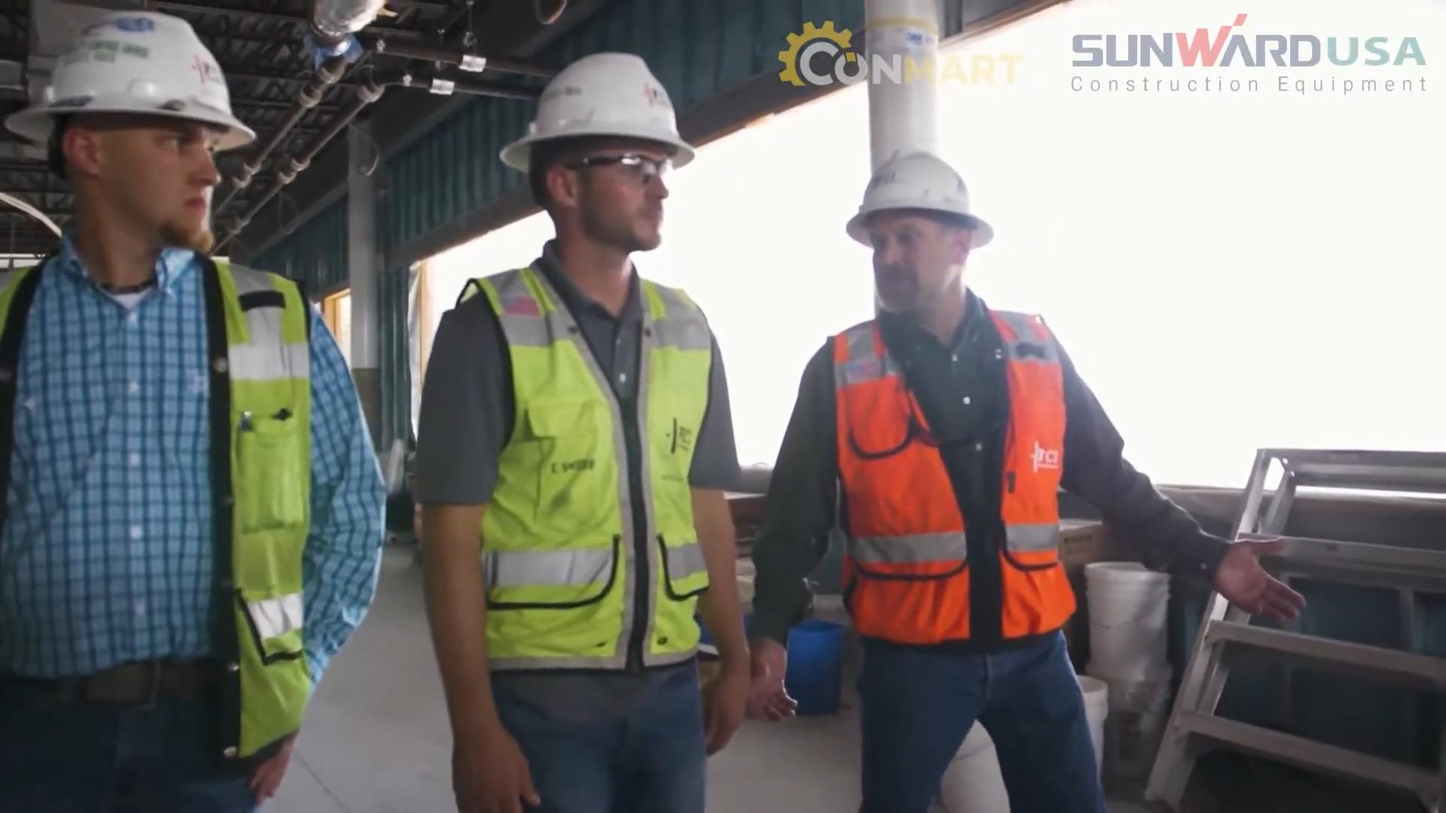Helmet: (10, 17, 238, 137), (491, 52, 679, 164), (845, 148, 993, 249)
Person: (778, 151, 1295, 813), (0, 10, 388, 811), (409, 43, 759, 813)
Safety Vest: (5, 270, 336, 705), (458, 284, 700, 656), (841, 343, 1062, 628)
bare-arms: (432, 726, 547, 813), (698, 646, 806, 736), (1224, 529, 1304, 628), (243, 717, 305, 792)
